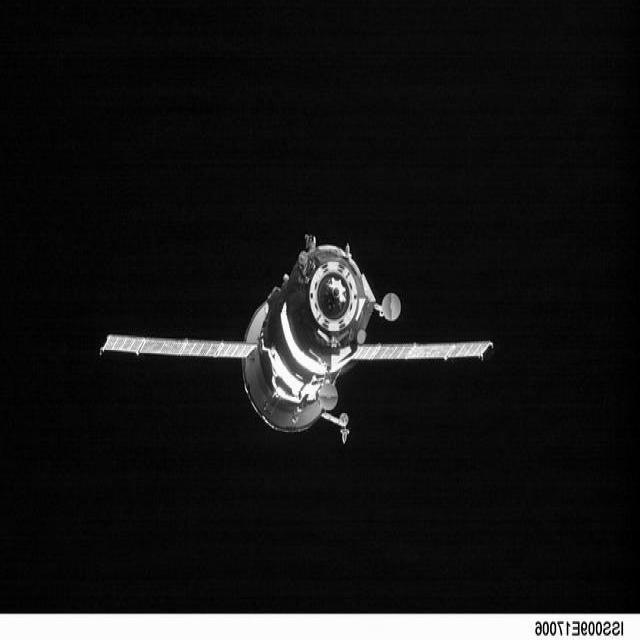satellite: (101, 236, 492, 442)
